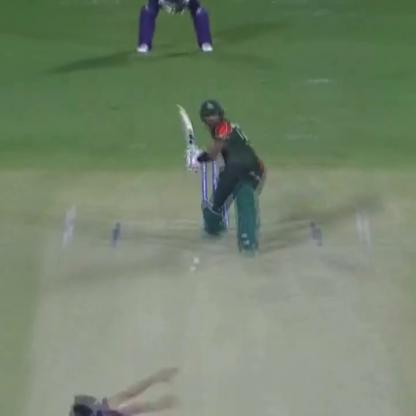ball: (189, 249, 203, 270), (184, 259, 196, 280)
bat: (169, 102, 207, 167)
pitch: (4, 188, 416, 416)
